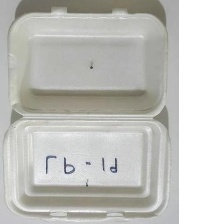foam_box: (0, 3, 176, 224)
